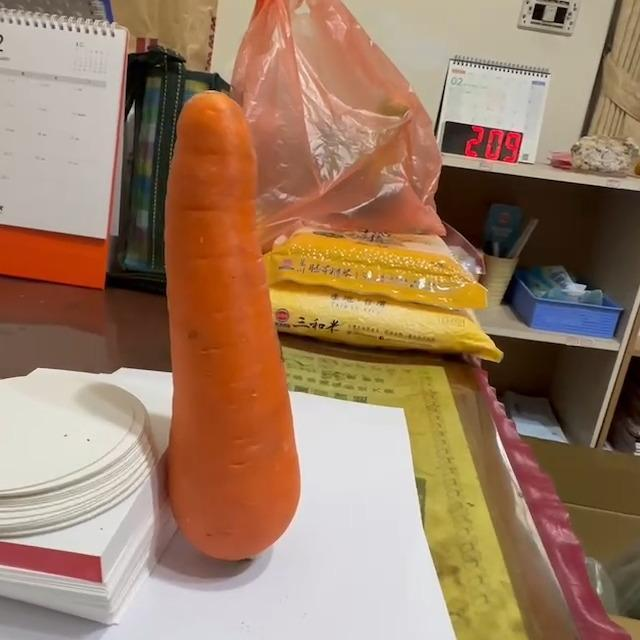carrot: (161, 89, 303, 565)
